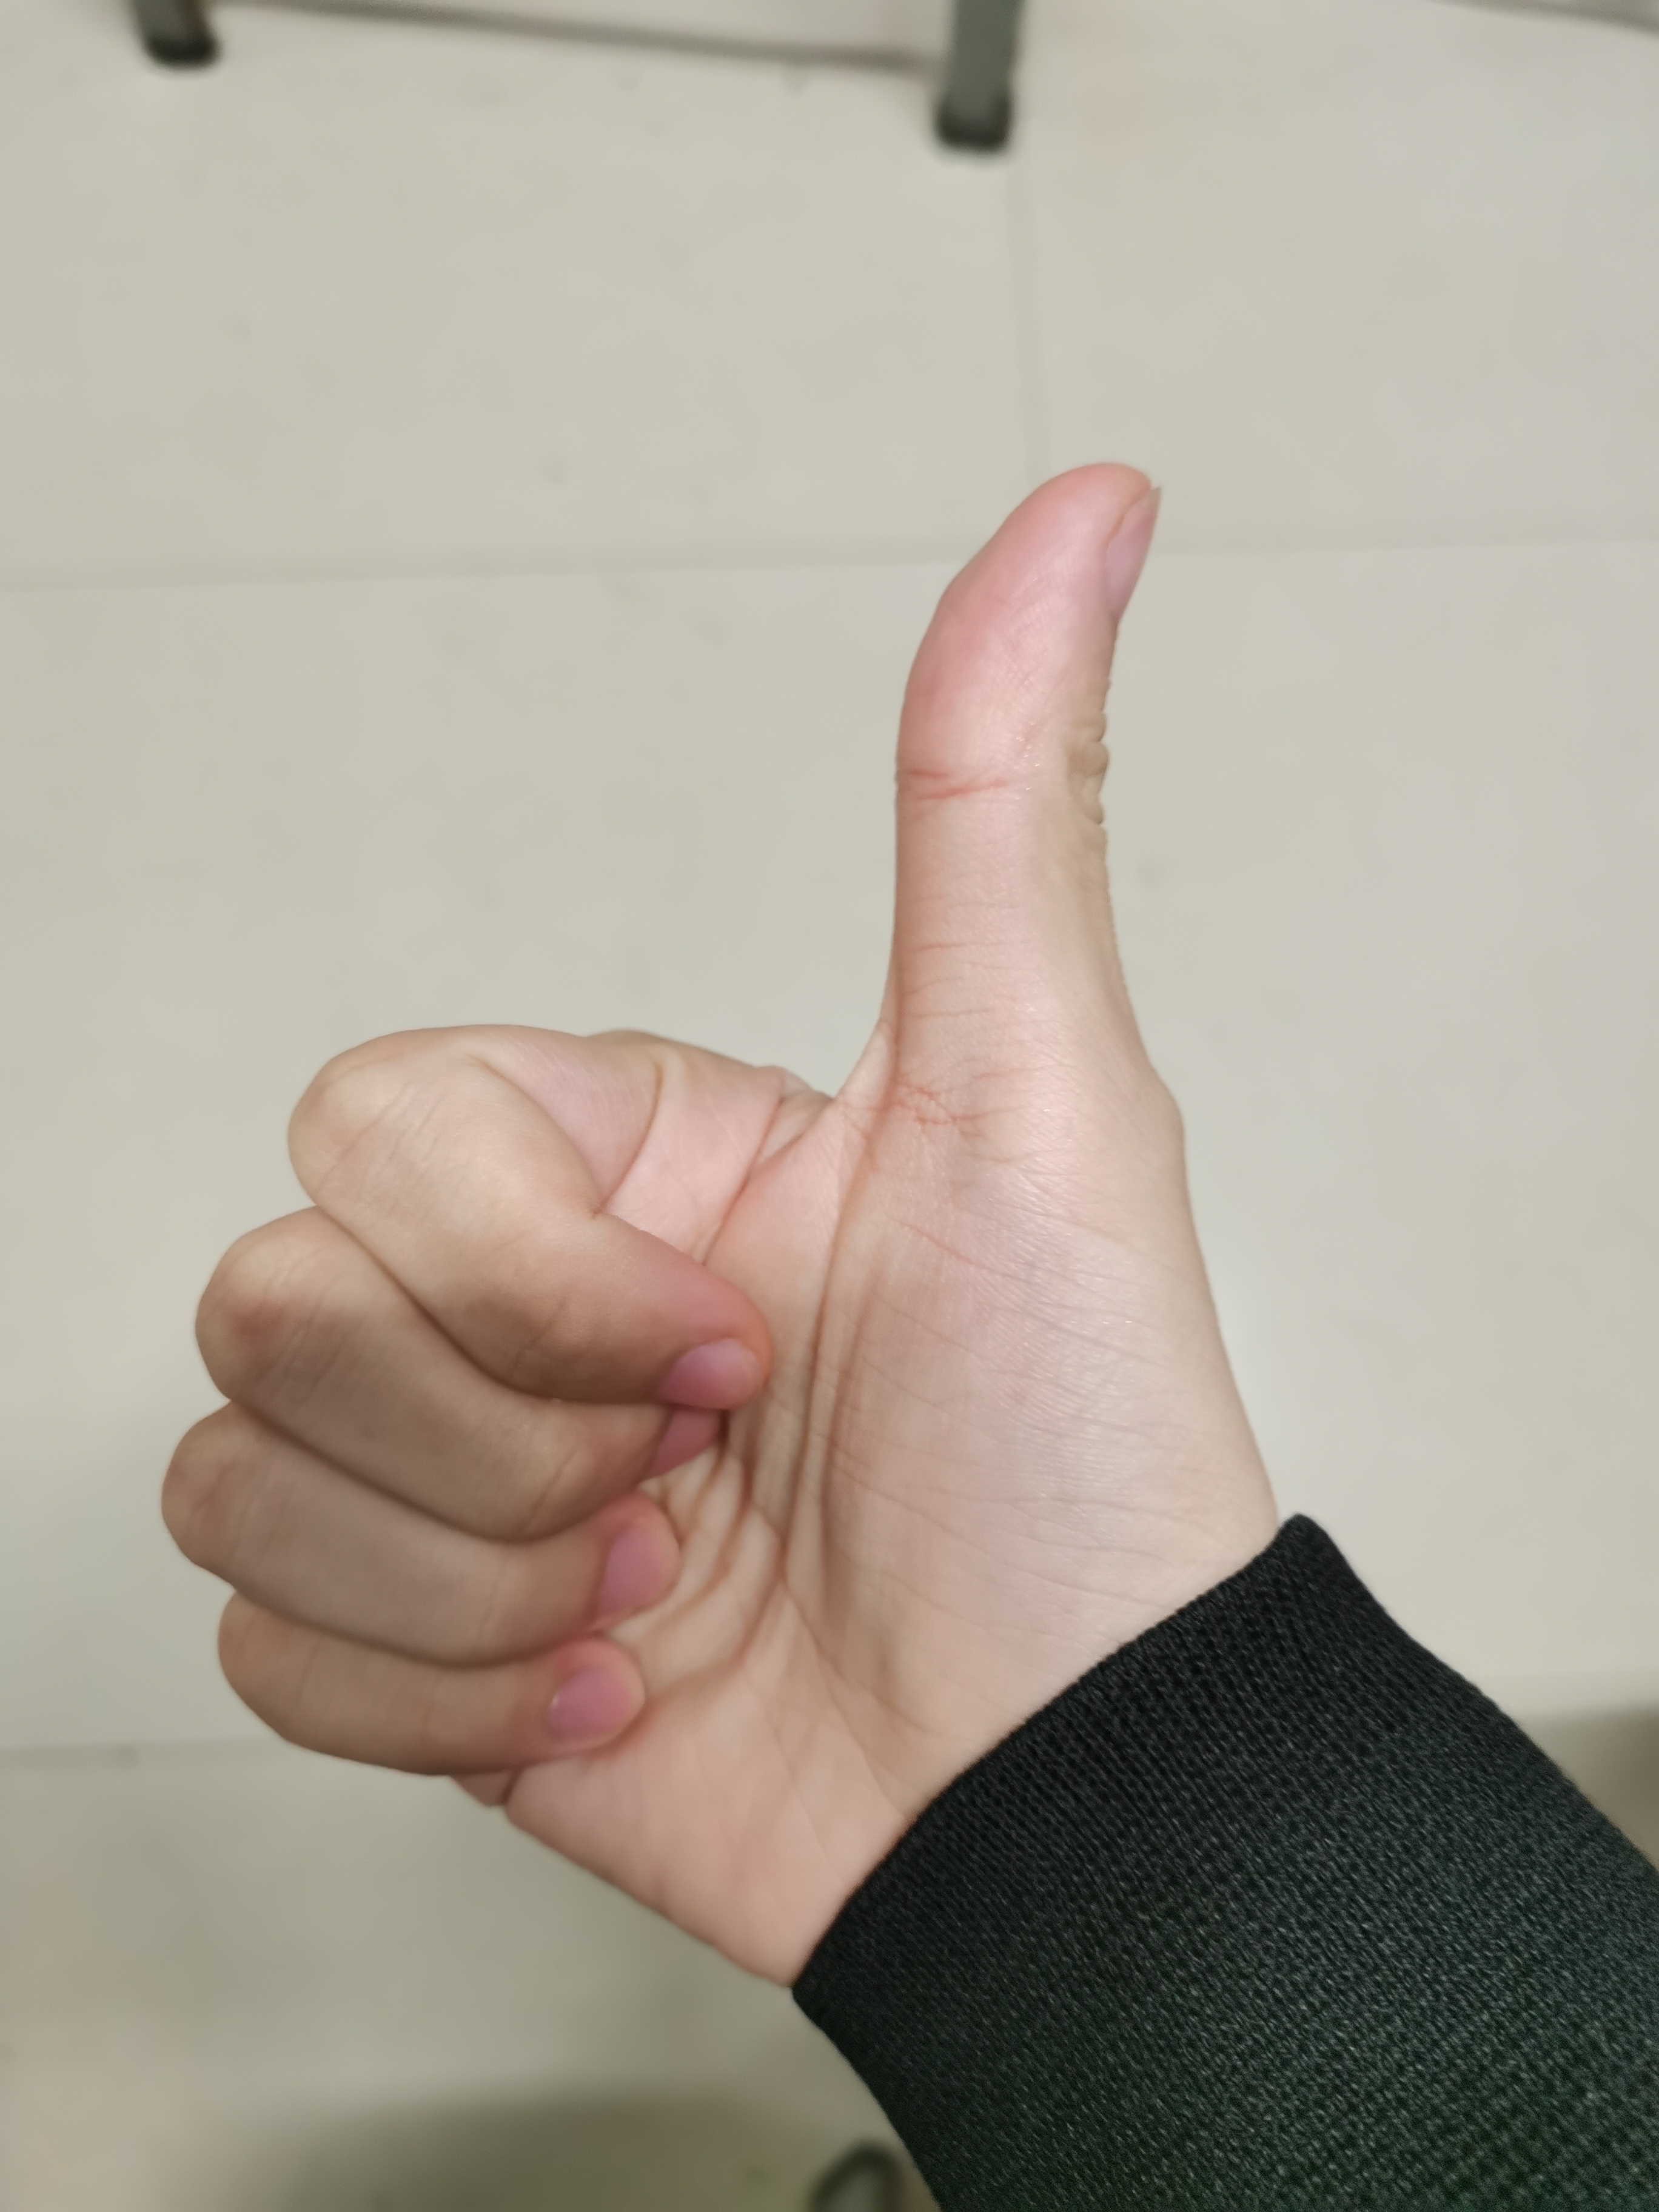no-phone: (139, 434, 1283, 1939)
